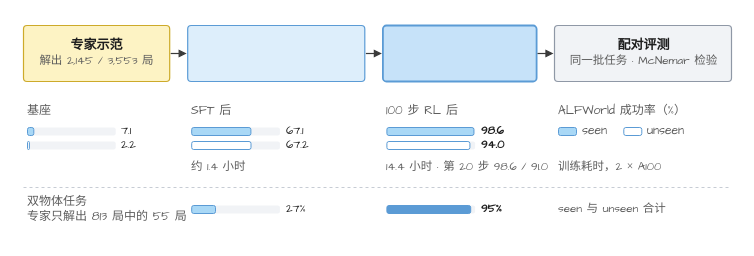
The diagram is 754 pixels wide and 256 high, and some of its shapes have lost their labels. The centre of each missing label's shape, as x and y in pixels:
SFT 只在工具调用上算 loss · 1 轮: point (276, 53)
多轮 RL StepCredit-RL · 100 步: point (459, 53)
